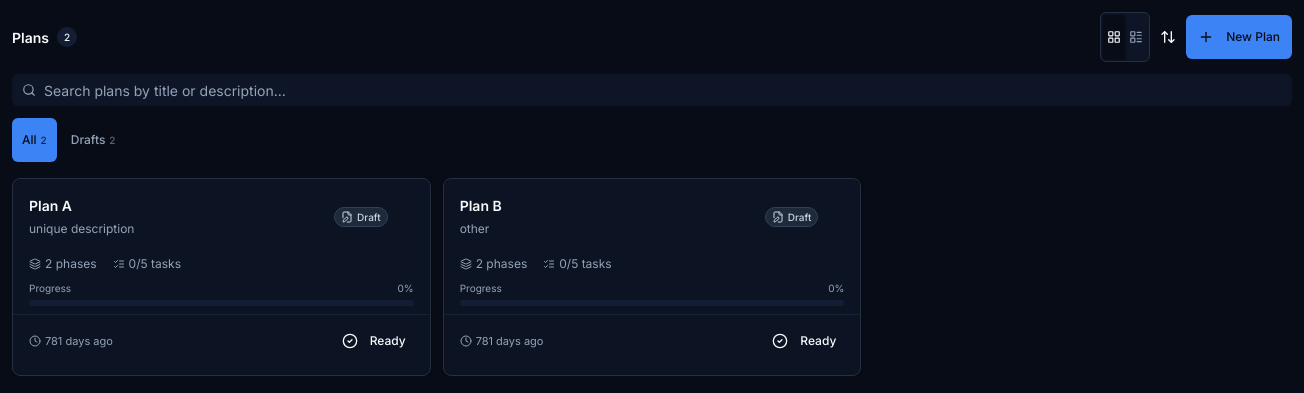
Test: PlanList › should filter by description in search
Type "unique" into the field with placeholder "Search plans by title or description..." at (652, 90), box [12,74,1292,106]
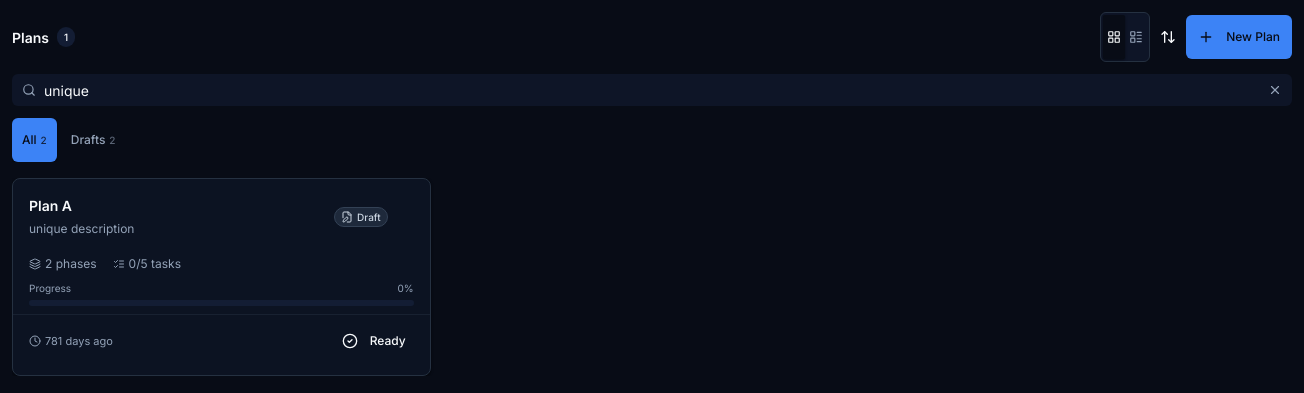
expect the heading "Plan A" is shown: met, box [29,197,72,214]
expect the heading "Plan B" is gone: met
